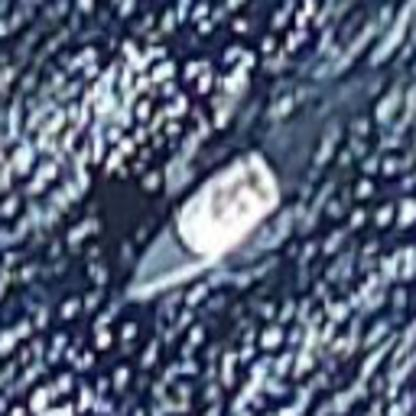ship: (110, 140, 288, 313)
